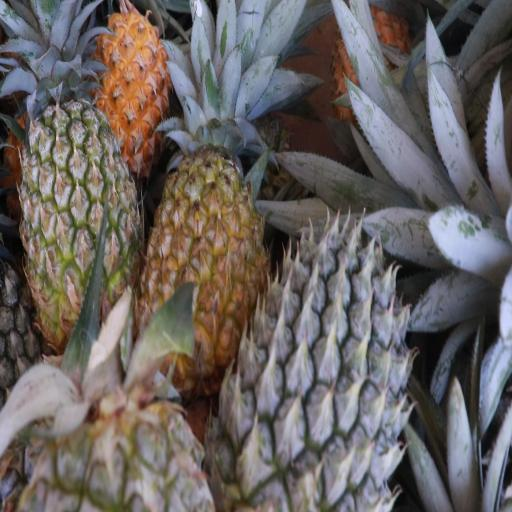------------------------------: (23, 95, 142, 328)
Pineapple - v8 v1: (143, 109, 264, 370), (68, 0, 172, 151)
